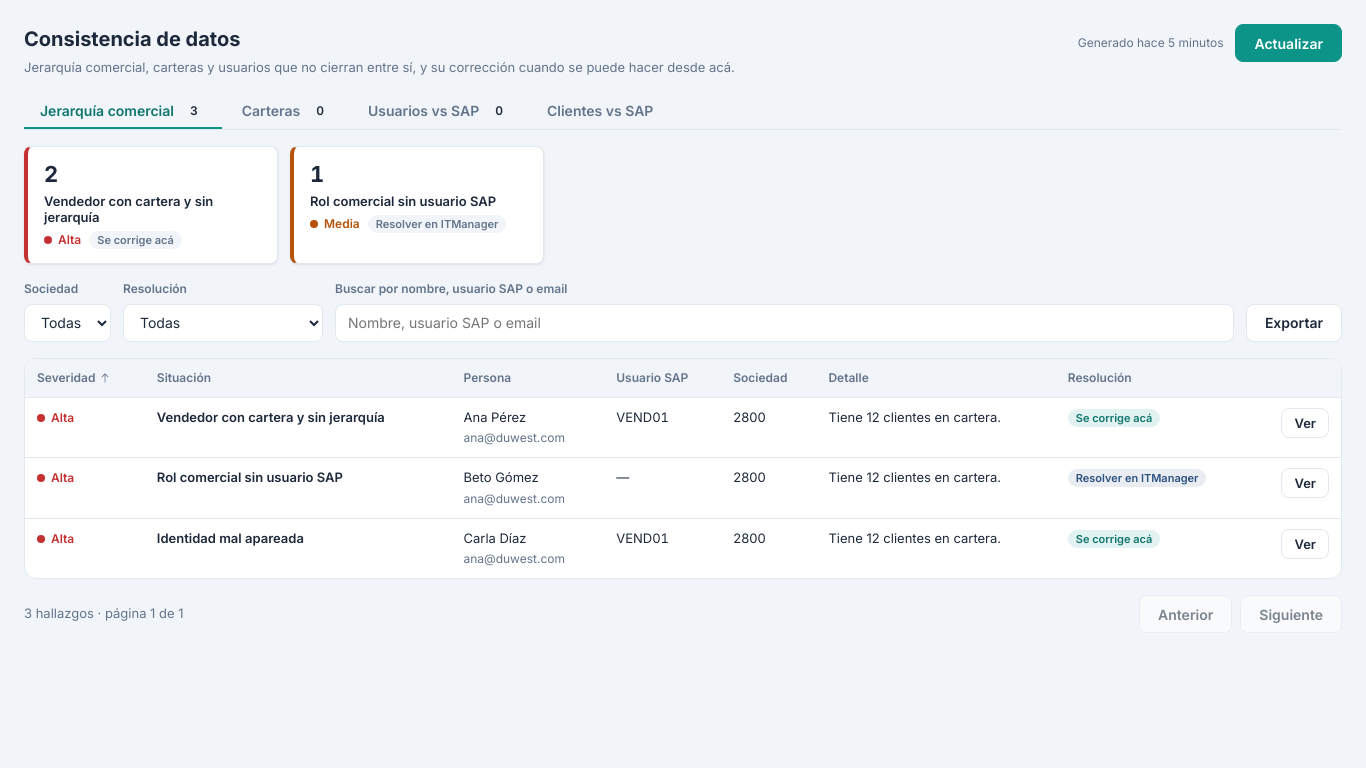
Test: ConsistencyPanel › lo que se resuelve en ITManager no ofrece correcciones
expect the text "Beto Gómez" is shown: met, box left=464, top=469, right=539, bottom=485
Click the button "Ver" in the row of "Beto Gómez" at (1305, 483), box left=1281, top=468, right=1329, bottom=498
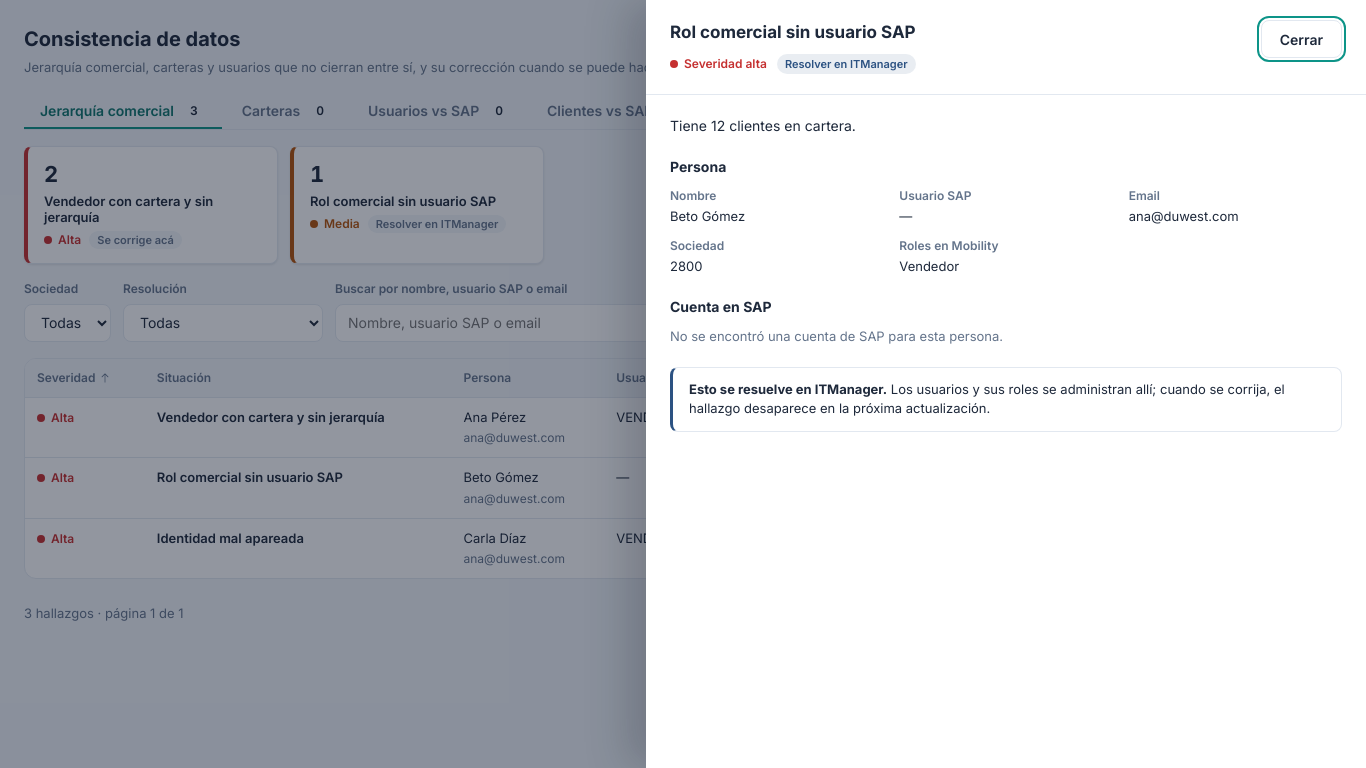
expect the text "Esto se resuelve en ITManager." is shown: met, box left=689, top=380, right=887, bottom=396
